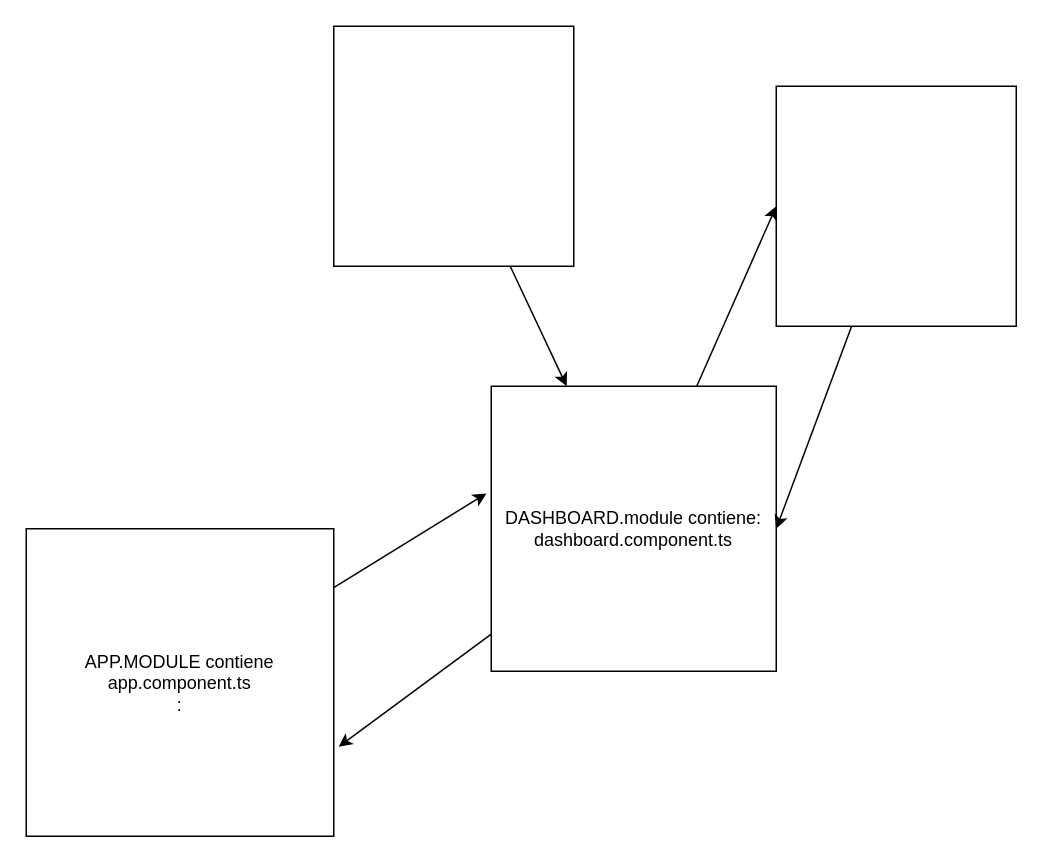
This 1043x863 diagram has some shape labels left out. Each missing label, with the box of its shape:
angular material contiene sidenav.component: (775, 85, 1016, 326)
USERS.MODULE users.component: (332, 25, 574, 266)
